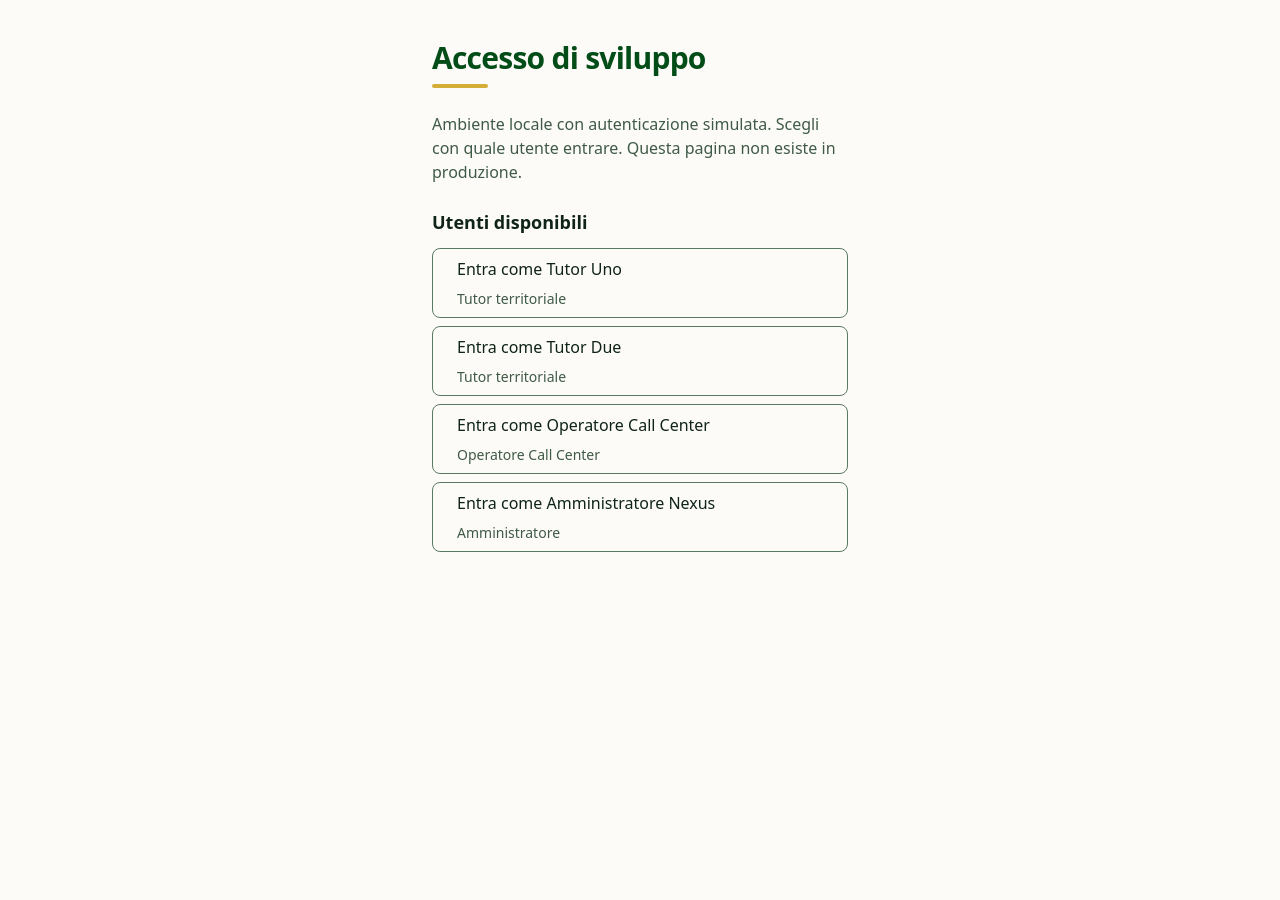
Test case: App shell › dalla pagina di accesso entra con l’utente scelto
Click the button "Entra come Operatore Call Center Operatore Call Center". click: (640, 439)
box: x1=432 y1=404 x2=848 y2=474
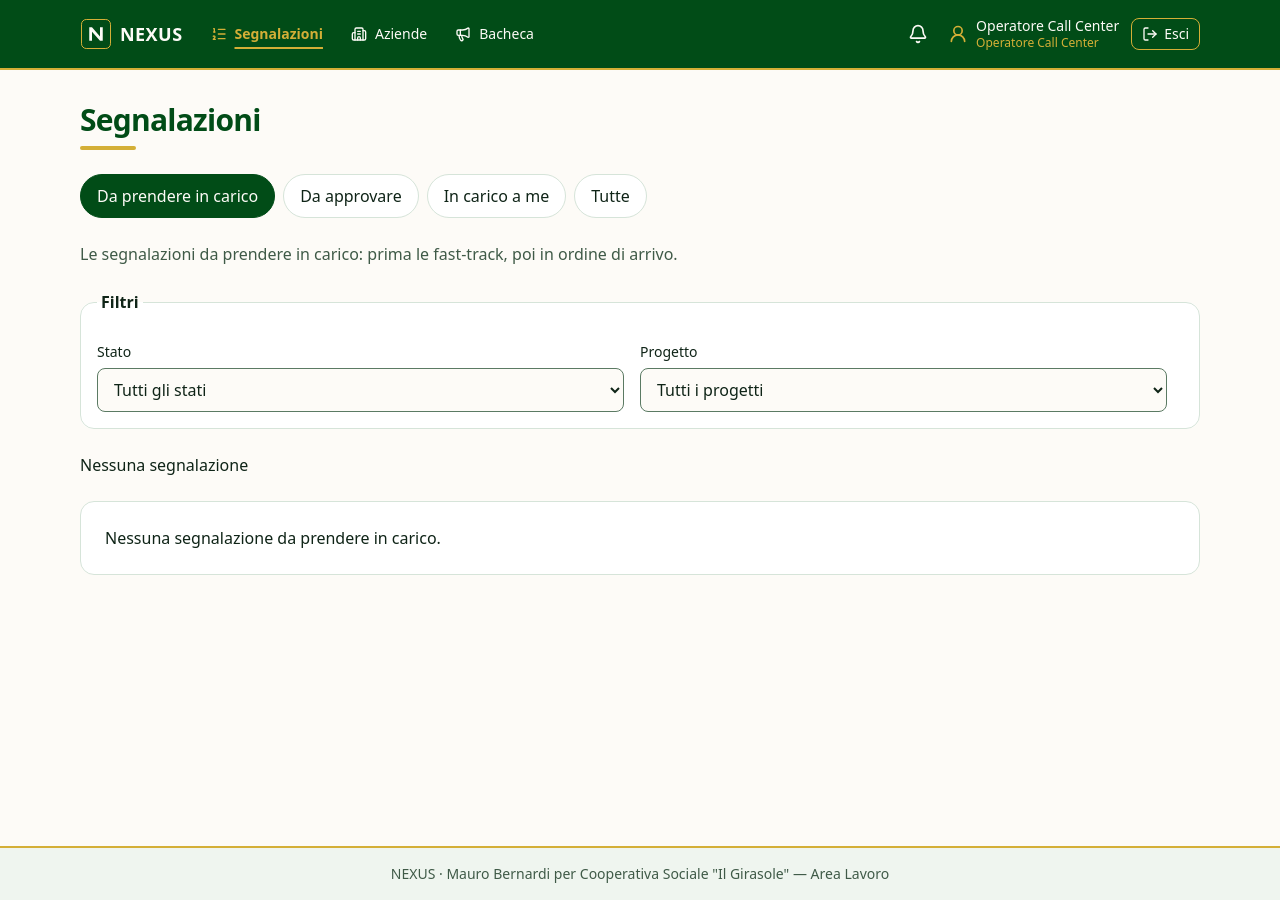
Check: the heading "Segnalazioni" is shown, box x1=80 y1=102 x2=261 y2=150
